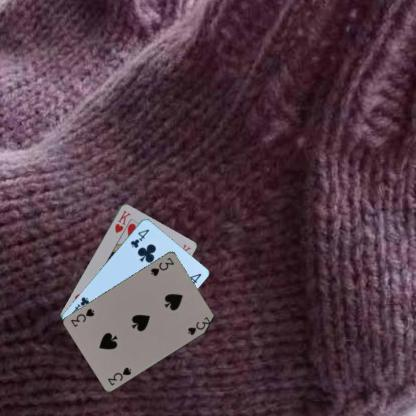3s: (148, 254, 175, 277), (105, 364, 132, 386)
4c: (128, 227, 150, 249)
Kh: (112, 207, 132, 234)
